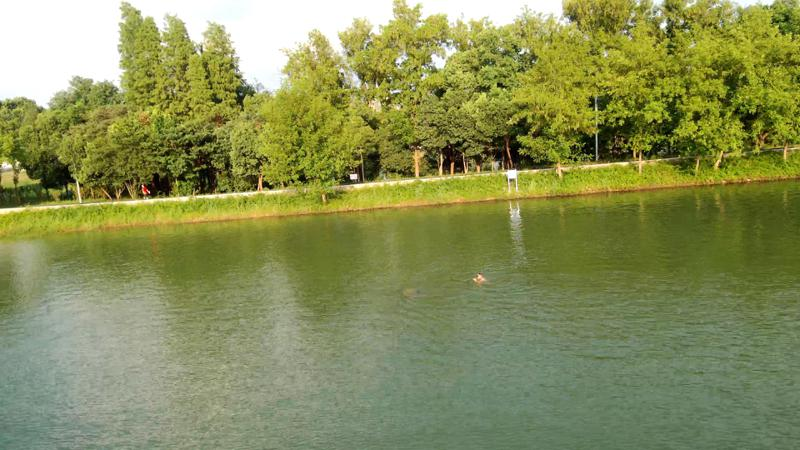passerby: (138, 181, 152, 204)
swimmers: (471, 270, 487, 285)
